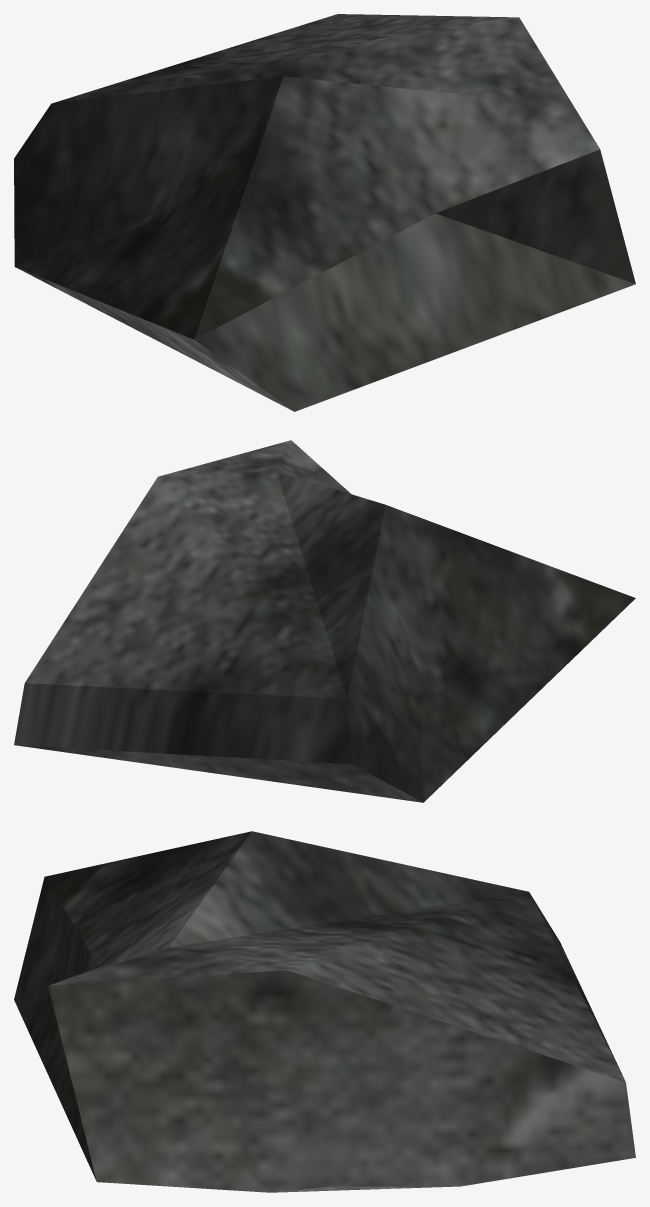
The model's file is Rock1.fbx.
The picture shows the model from 3 angles, top to bottom: view 1: azimuth 30°, elevation 25°; view 2: azimuth 150°, elevation 25°; view 3: azimuth 270°, elevation 25°; orthographic projection. The views are drawn at different scales.
Parts seen in each view (by area): view 1: Rock2; view 2: Rock2; view 3: Rock2.
Boxes of the visible parts, x1,y1,x2,y2 form: Rock2: [14, 14, 635, 411]; Rock2: [14, 440, 635, 802]; Rock2: [14, 831, 635, 1192].
Size of the model in its own units: 152 by 72.25 by 174.
